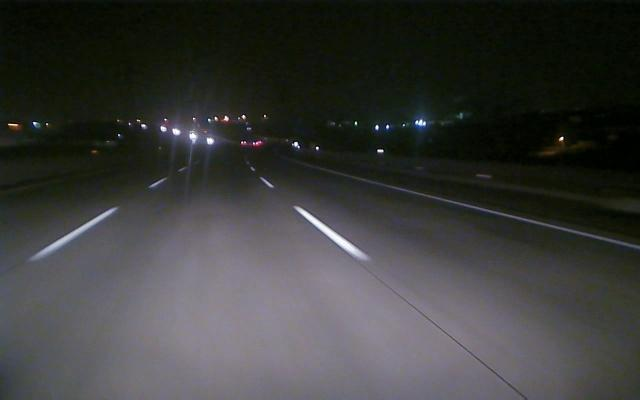lane: (328, 171, 637, 251), (9, 181, 161, 271), (260, 178, 372, 261)
